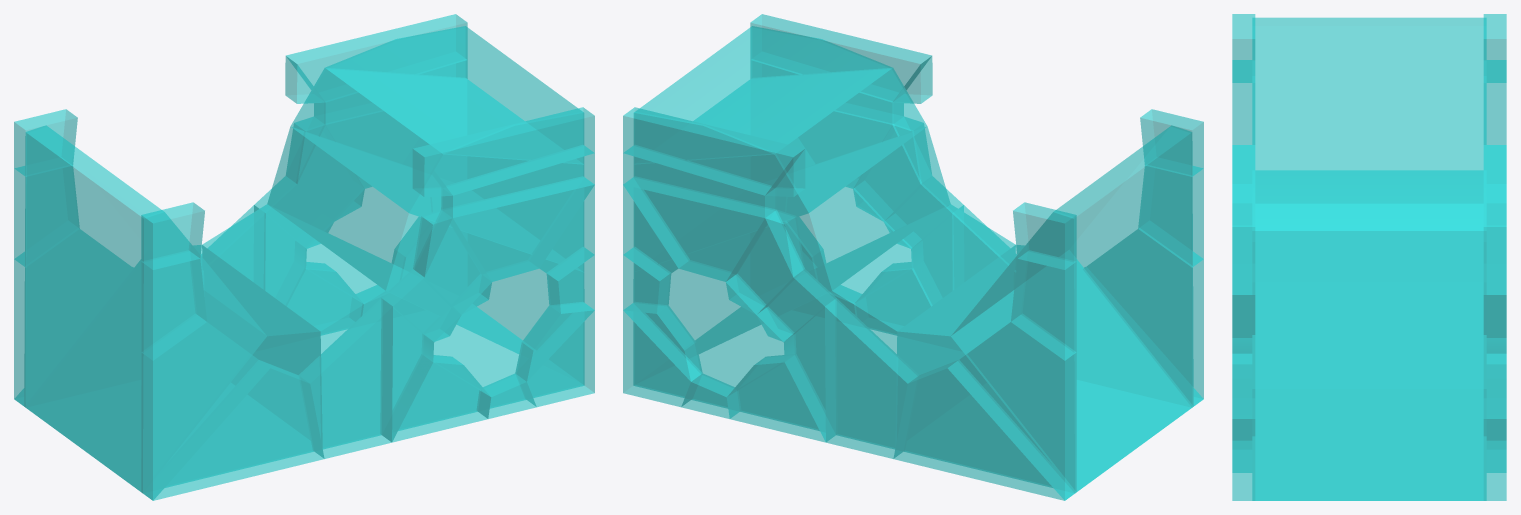
Rendered from SM_Bld_Wall_L_Damaged_Double_01_Collision_01.fbx.
3 renders of one model, left to right at view 1: azimuth 30°, elevation 25°; view 2: azimuth 150°, elevation 25°; view 3: azimuth 270°, elevation 25°, orthographic.
Visible parts, largest first — view 1: SM_Bld_Wall_L_Damaged_Double_01_Collision_01; view 2: SM_Bld_Wall_L_Damaged_Double_01_Collision_01; view 3: SM_Bld_Wall_L_Damaged_Double_01_Collision_01.
Boxes of the visible parts, x1,y1,x2,y2 form: SM_Bld_Wall_L_Damaged_Double_01_Collision_01: (14,14,594,500); SM_Bld_Wall_L_Damaged_Double_01_Collision_01: (623,14,1203,500); SM_Bld_Wall_L_Damaged_Double_01_Collision_01: (1232,14,1506,500).
Size of the model in its own units: 1000 by 600 by 545.
